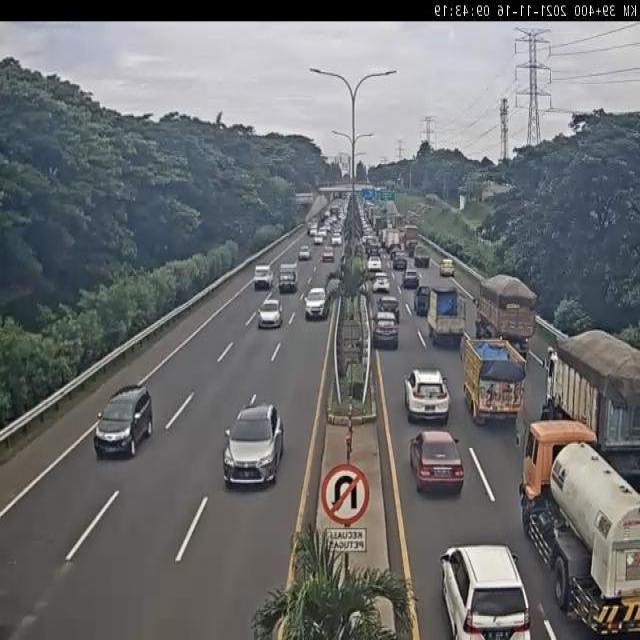Car: (440, 544, 532, 639), (222, 404, 285, 489), (95, 384, 154, 459), (408, 430, 464, 494), (403, 368, 451, 425), (372, 310, 400, 349), (304, 286, 329, 320), (258, 298, 284, 329), (278, 264, 298, 293), (253, 264, 274, 291), (372, 273, 390, 294), (403, 270, 420, 289), (367, 256, 382, 274), (440, 258, 454, 277), (393, 253, 407, 270), (322, 247, 335, 263), (298, 244, 310, 260), (313, 233, 324, 246), (331, 234, 342, 247)
Truck: (518, 416, 640, 640), (541, 329, 640, 471), (460, 336, 525, 424), (477, 271, 536, 355), (428, 282, 466, 342)
